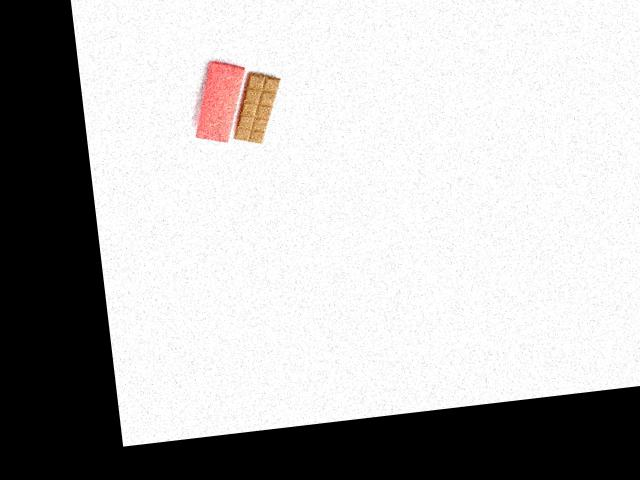chocolate: (222, 65, 287, 148)
